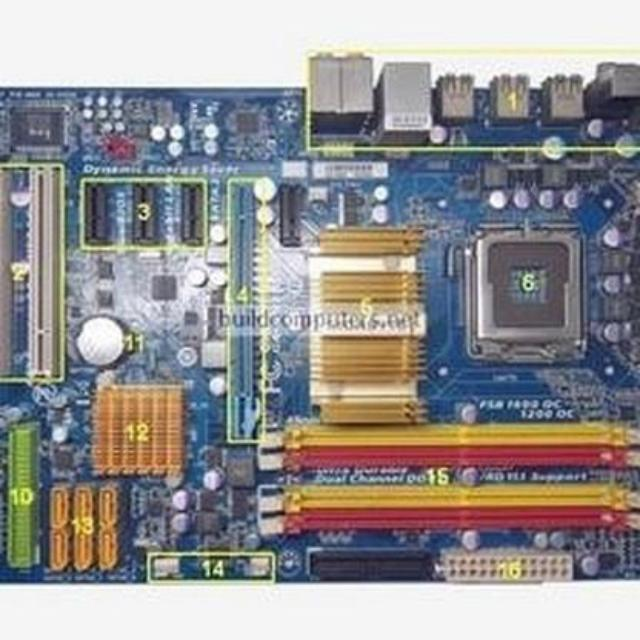Mainboard: (0, 67, 640, 596)
